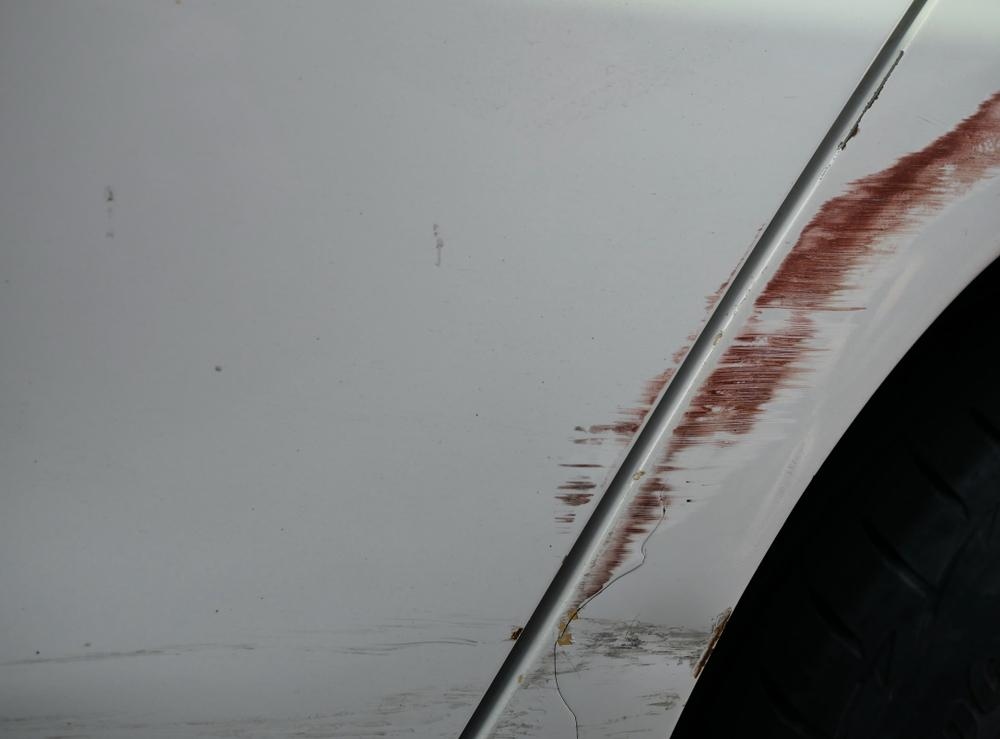scratch: (476, 48, 1000, 739), (533, 218, 771, 548), (0, 595, 530, 739)
